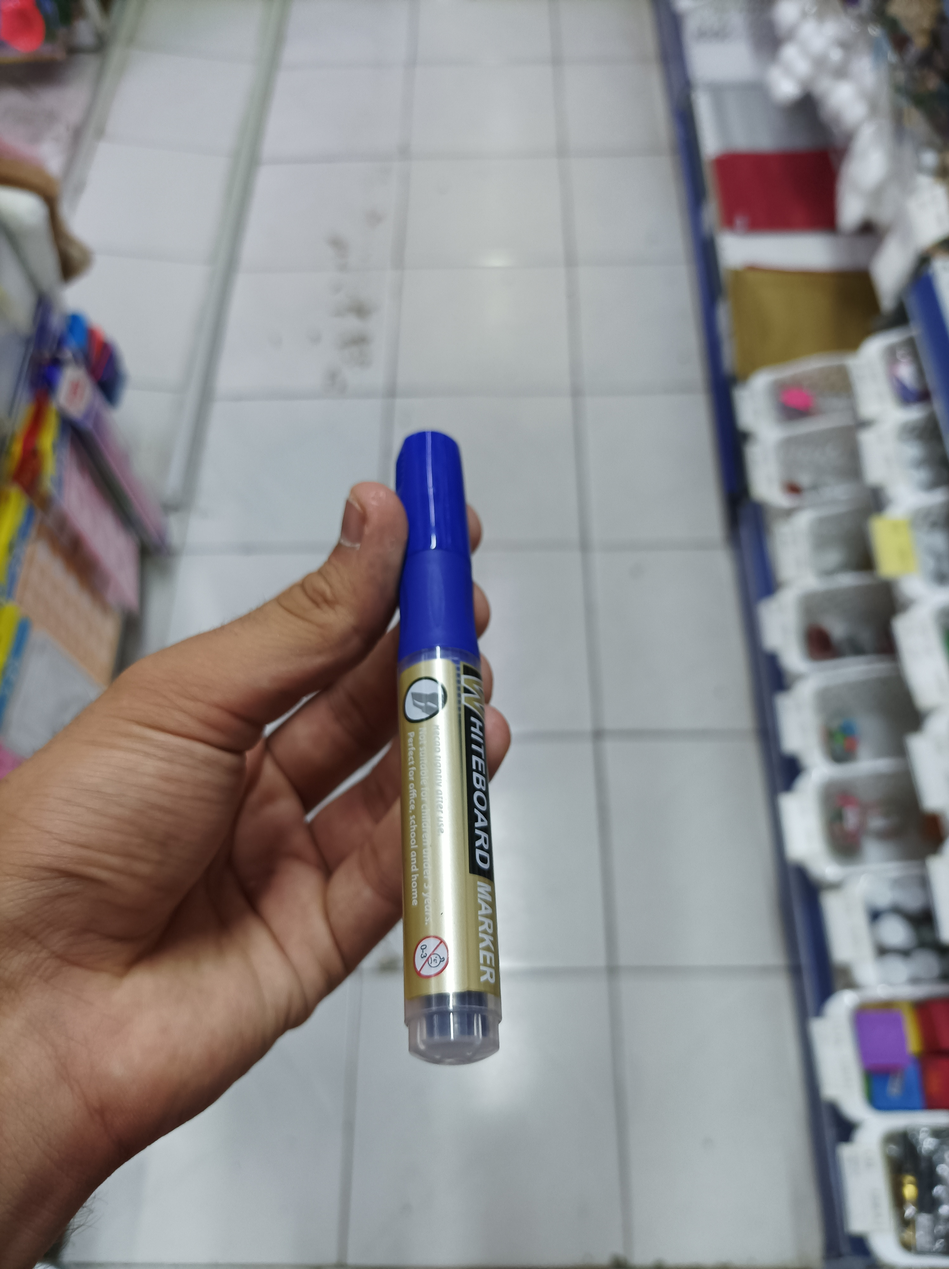plastic: (382, 425, 508, 1085)
